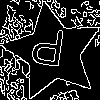P: (27, 27, 67, 76)
